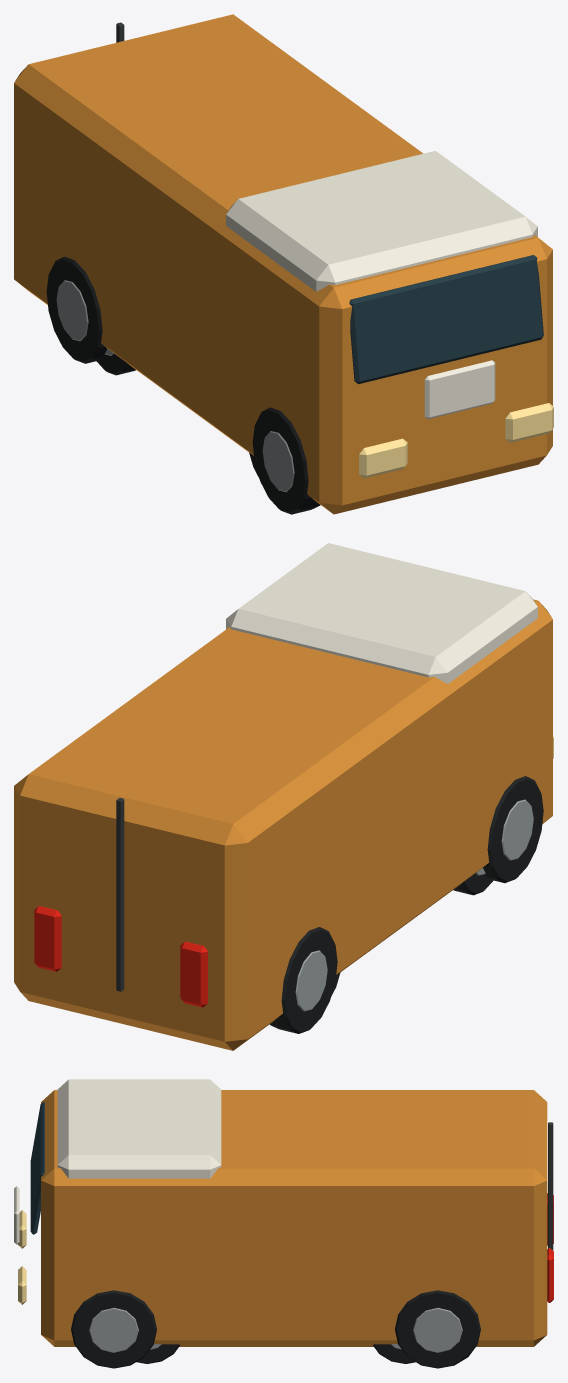
File: traffic.glb
3 views of the same model, one above another, from view 1: azimuth 30°, elevation 25°; view 2: azimuth 150°, elevation 25°; view 3: azimuth 270°, elevation 25° (orthographic). The views are drawn at different scales.
Parts seen in each view (by area): view 1: van-body, cab-roof, windshield, TRAFFIC_DeliveryVan__Wheel_FL__Tire, parcel-mark, TRAFFIC_DeliveryVan__Wheel_RL__Tire, van-headlight, van-headlight.001, TRAFFIC_DeliveryVan__Wheel_FL__Rim, TRAFFIC_DeliveryVan__Wheel_RL__Rim; view 2: van-body, cab-roof, TRAFFIC_DeliveryVan__Wheel_RL__Tire, TRAFFIC_DeliveryVan__Wheel_FL__Tire, rear-door-split, van-tail.001, van-tail, TRAFFIC_DeliveryVan__Wheel_FL__Rim, TRAFFIC_DeliveryVan__Wheel_RL__Rim; view 3: van-body, cab-roof, TRAFFIC_DeliveryVan__Wheel_RR__Tire, TRAFFIC_DeliveryVan__Wheel_FR__Tire, TRAFFIC_DeliveryVan__Wheel_FR__Rim, TRAFFIC_DeliveryVan__Wheel_RR__Rim, windshield, rear-door-split, TRAFFIC_CompactCar__Wheel_FR__Tire, TRAFFIC_CompactCar__Wheel_RR__Tire, van-tail.001.
Boxes of the visible parts, <box> form: van-body: <box>14,14,552,514</box>; cab-roof: <box>226,151,537,291</box>; windshield: <box>349,255,543,384</box>; TRAFFIC_DeliveryVan__Wheel_FL__Tire: <box>252,407,320,514</box>; parcel-mark: <box>424,360,495,419</box>; TRAFFIC_DeliveryVan__Wheel_RL__Tire: <box>46,256,107,363</box>; van-headlight: <box>359,438,407,478</box>; van-headlight.001: <box>505,403,553,442</box>; TRAFFIC_DeliveryVan__Wheel_FL__Rim: <box>262,431,294,492</box>; TRAFFIC_DeliveryVan__Wheel_RL__Rim: <box>56,280,88,341</box>; van-body: <box>14,599,552,1050</box>; cab-roof: <box>226,543,537,683</box>; TRAFFIC_DeliveryVan__Wheel_RL__Tire: <box>270,927,337,1033</box>; TRAFFIC_DeliveryVan__Wheel_FL__Tire: <box>483,776,543,883</box>; rear-door-split: <box>116,798,124,991</box>; van-tail.001: <box>34,906,61,971</box>; van-tail: <box>180,941,207,1007</box>; TRAFFIC_DeliveryVan__Wheel_FL__Rim: <box>501,799,533,860</box>; TRAFFIC_DeliveryVan__Wheel_RL__Rim: <box>295,950,327,1011</box>; van-body: <box>41,1090,547,1346</box>; cab-roof: <box>57,1079,221,1178</box>; TRAFFIC_DeliveryVan__Wheel_RR__Tire: <box>395,1290,480,1368</box>; TRAFFIC_DeliveryVan__Wheel_FR__Tire: <box>71,1290,156,1368</box>; TRAFFIC_DeliveryVan__Wheel_FR__Rim: <box>89,1308,138,1352</box>; TRAFFIC_DeliveryVan__Wheel_RR__Rim: <box>413,1308,462,1352</box>; windshield: <box>30,1102,44,1234</box>; rear-door-split: <box>548,1122,553,1250</box>; TRAFFIC_CompactCar__Wheel_FR__Tire: <box>136,1344,179,1363</box>; TRAFFIC_CompactCar__Wheel_RR__Tire: <box>373,1344,415,1363</box>; van-tail.001: <box>547,1248,553,1302</box>.
Size of the model in its own units: 1.97 by 2.06 by 4.88.
